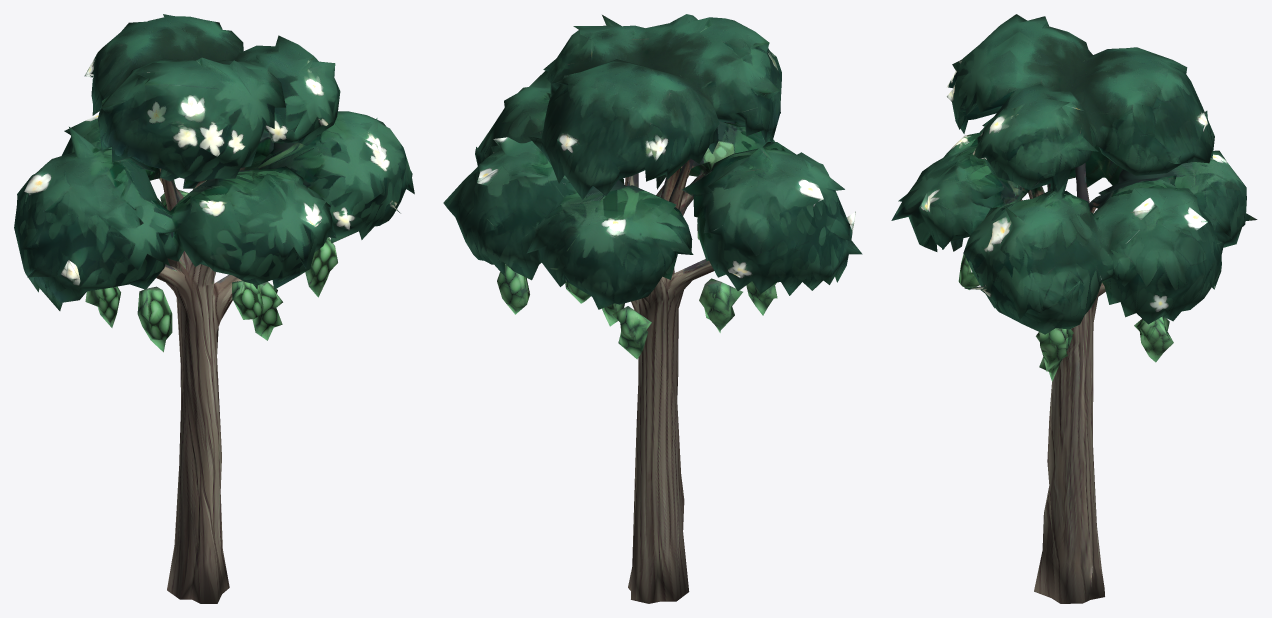
The picture shows the model from 3 angles, left to right: view 1: azimuth 30°, elevation 25°; view 2: azimuth 150°, elevation 25°; view 3: azimuth 270°, elevation 25°; orthographic projection.
Visible parts, largest first — view 1: Mesh_0; view 2: Mesh_0; view 3: Mesh_0.
Boxes of the visible parts, box(x1,y1,x2,y2) form: Mesh_0: box(14, 14, 414, 603); Mesh_0: box(443, 14, 862, 603); Mesh_0: box(891, 14, 1257, 603).
Size of the model in its own units: 1.39 by 1.91 by 1.16.
1 material, 1 textured.
